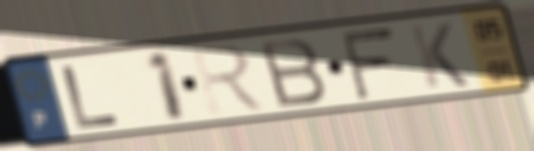1: (143, 48, 193, 124)
B: (255, 35, 330, 111)
F: (336, 24, 398, 102)
K: (406, 20, 473, 91)
L: (57, 62, 125, 132)
R: (187, 41, 271, 118)
